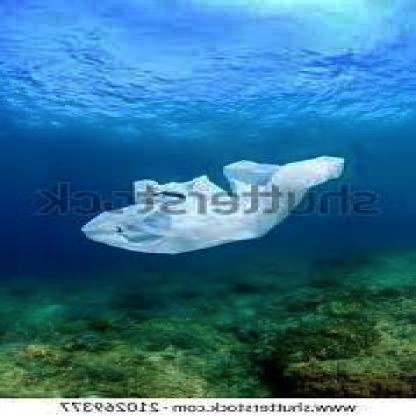pbag: (72, 153, 358, 253)
